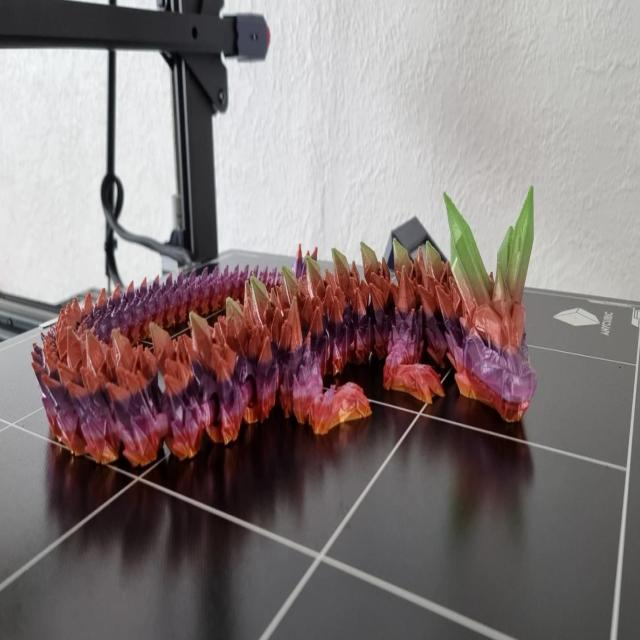Without deffect: (38, 176, 548, 497)
